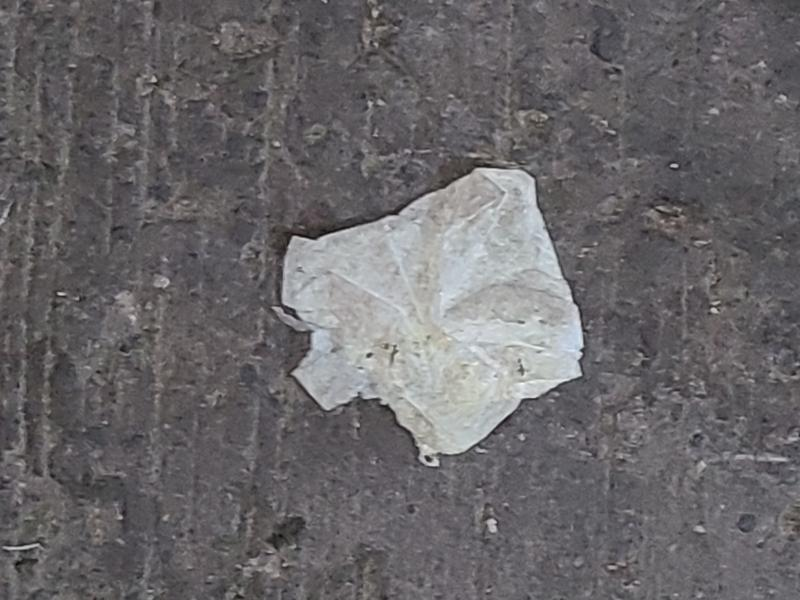papel: (277, 167, 585, 465)
